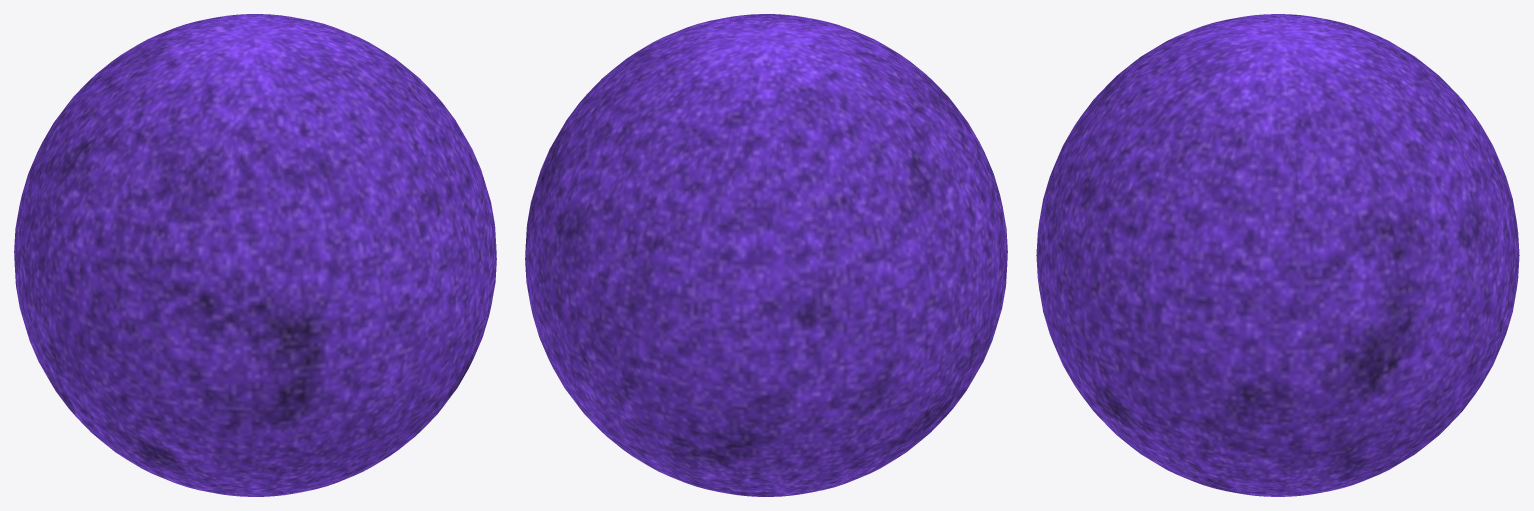
Rendered from estrela-neutron.glb.
The picture shows the model from 3 angles, left to right: view 1: azimuth 30°, elevation 25°; view 2: azimuth 150°, elevation 25°; view 3: azimuth 270°, elevation 25°; orthographic projection.
Parts seen in each view (by area): view 1: Fotosfera · neutron; view 2: Fotosfera · neutron; view 3: Fotosfera · neutron.
Part boxes in pixels (x1,y1,x2,y2): Fotosfera · neutron: (14, 14, 496, 496); Fotosfera · neutron: (525, 14, 1007, 496); Fotosfera · neutron: (1036, 14, 1519, 496).
Size of the model in its own units: 2 by 2 by 2.
Materials: 1 (1 with a texture image).
